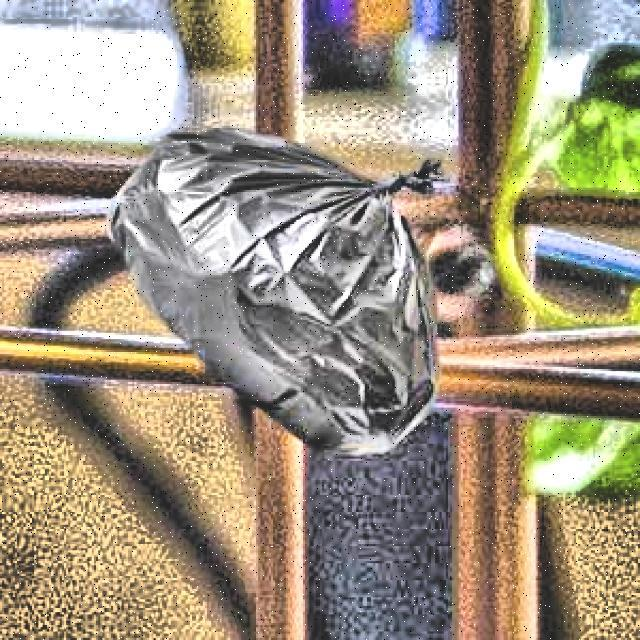Trashbag: (105, 123, 450, 454)
